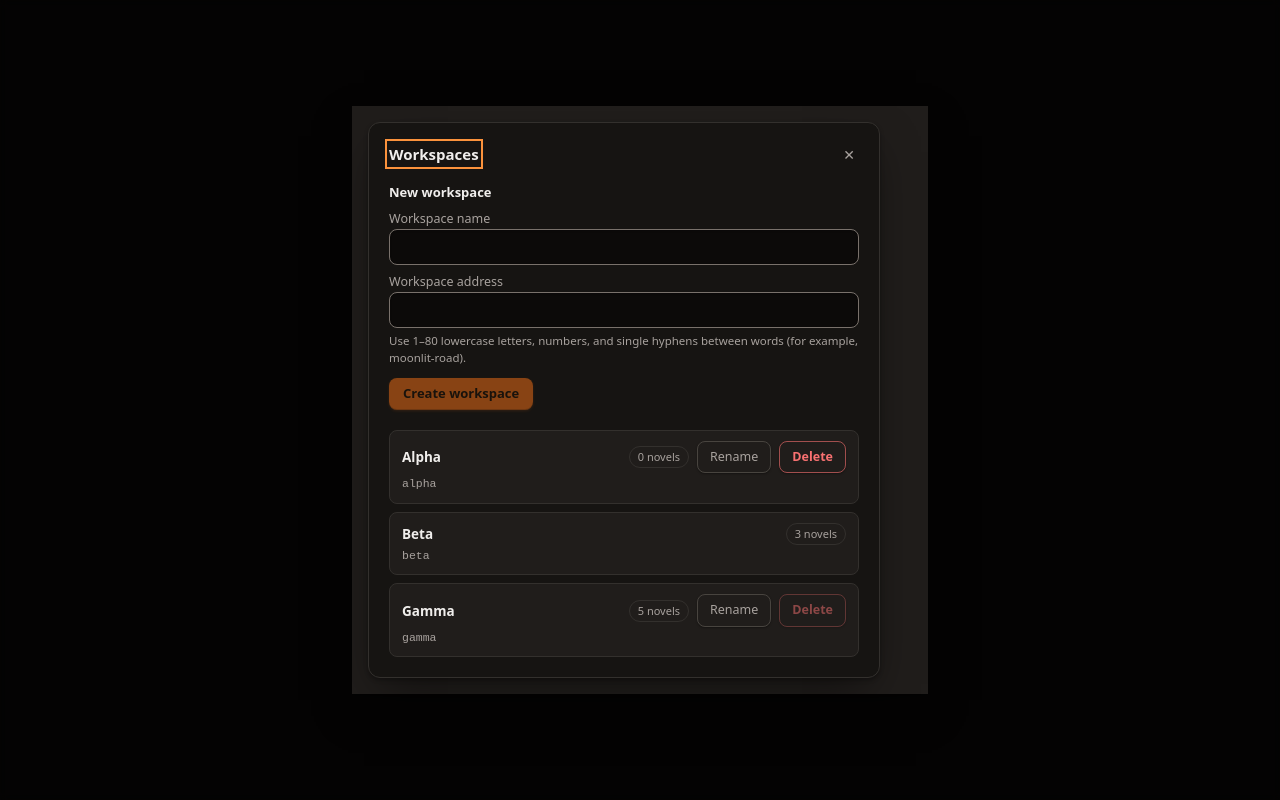
Scenario: workspace manager dialog › shows history refusal inside the active confirmation with accurate copy
Click the button with test id "ws-delete-alpha": (813, 457) [779,441,846,473]
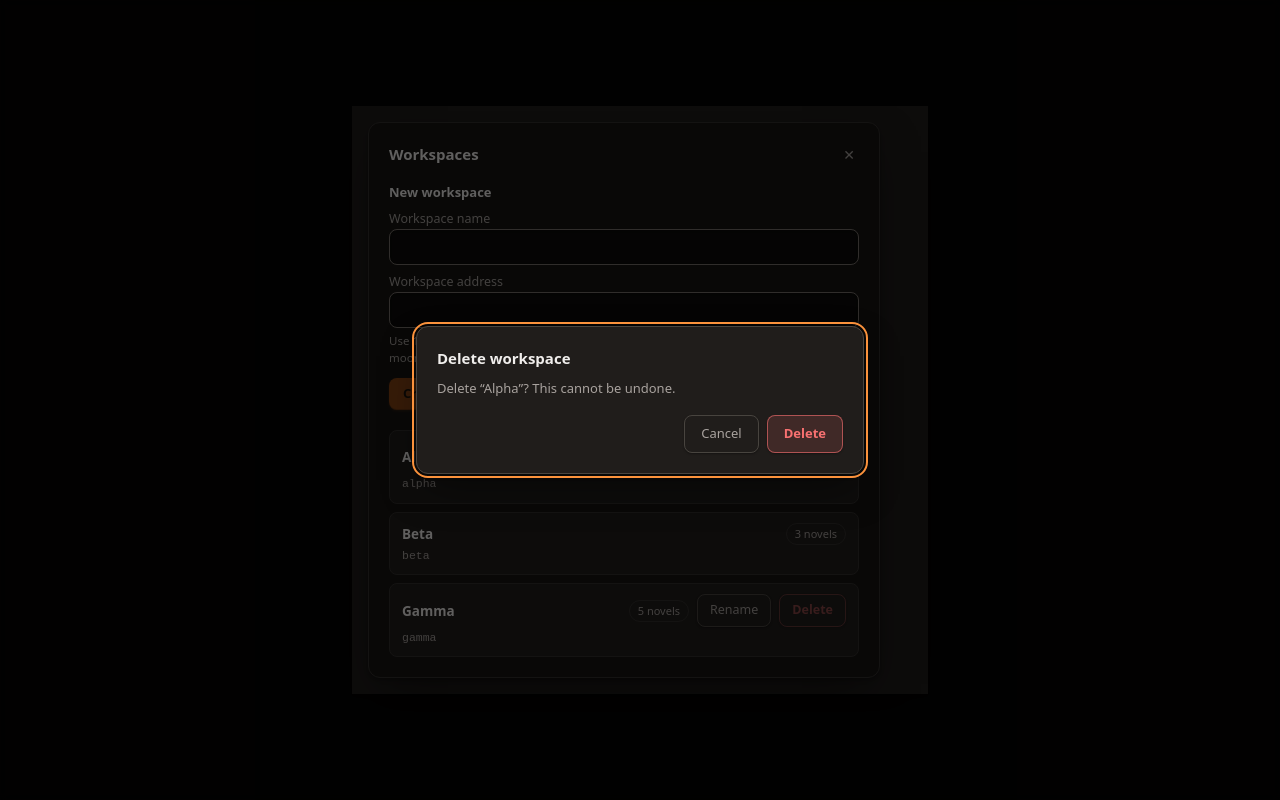
Click the button with test id "confirm-ok": (805, 434) [767,415,843,453]
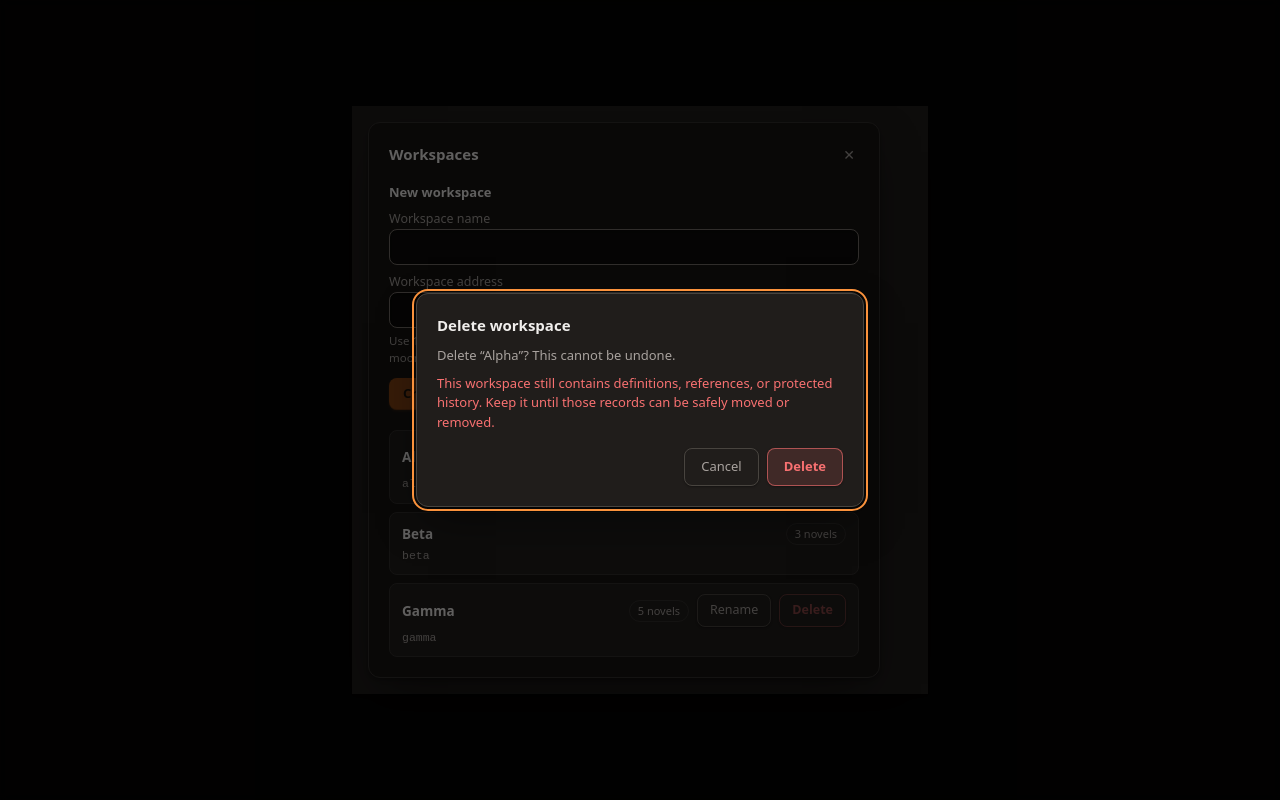
Expected: the message shows "This workspace still contains definitions, references, or protected history. Keep it until those records can be safely moved or removed.", [437,374,832,431]
